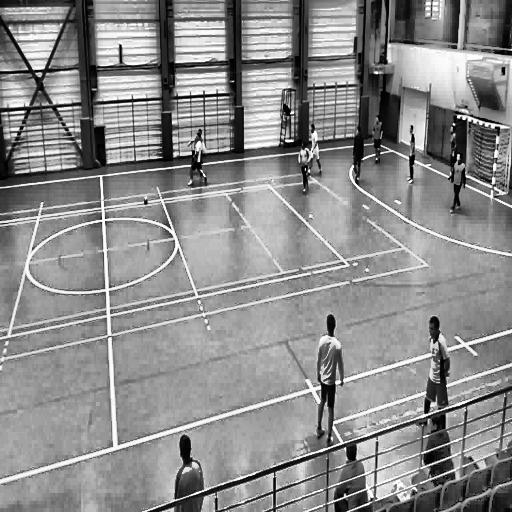ball: (142, 194, 150, 206)
player: (314, 312, 342, 448), (420, 317, 449, 427), (169, 426, 206, 512), (414, 414, 455, 481), (332, 439, 368, 510), (189, 134, 211, 191), (449, 154, 466, 216), (185, 126, 206, 174), (296, 140, 313, 197), (308, 123, 324, 178), (352, 122, 364, 191), (406, 122, 417, 186), (372, 112, 384, 168), (447, 122, 456, 184)
